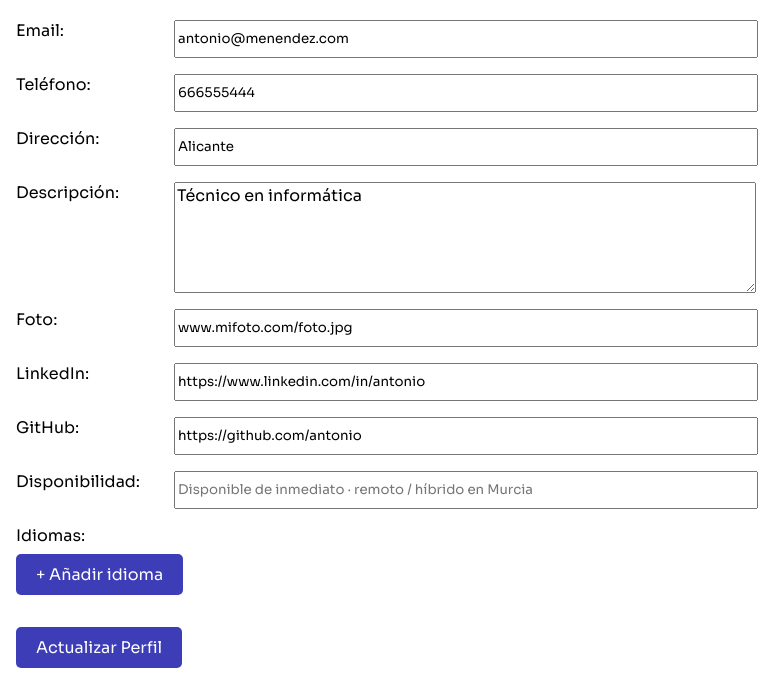
Test: <Perfil /> › si api.put falla se avisa del error
(page scrolled)
Click the button "Actualizar Perfil". click: [99, 647]
box: [16,627,182,668]
Wait 1000 ms
(page scrolled)
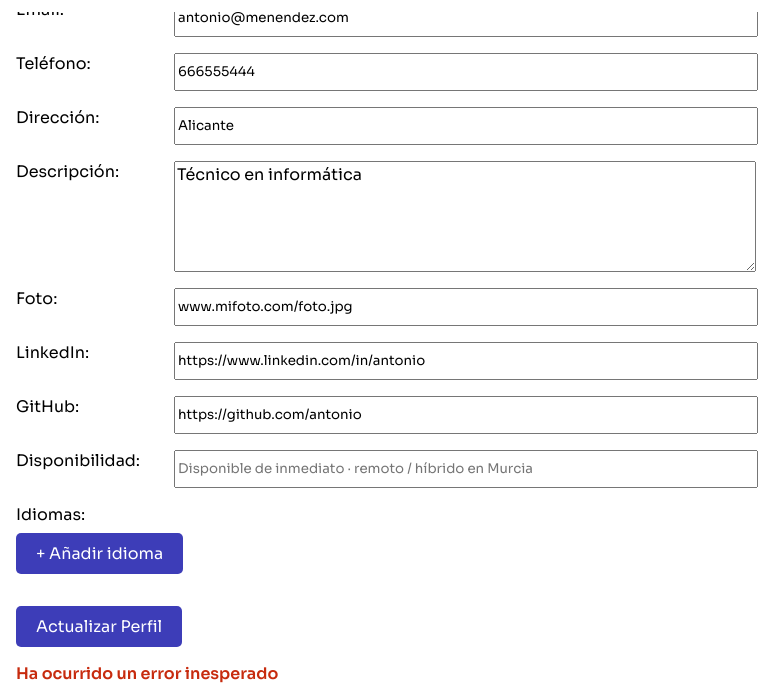
Check: the text "Ha ocurrido un error inesperado" is shown, box [16,663,278,684]
